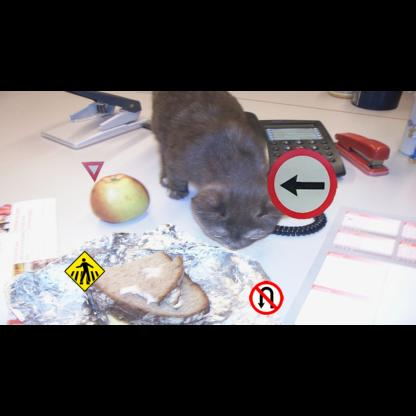A-32b: (64, 251, 105, 292)
R-24a: (267, 148, 337, 219)
R-5a: (249, 281, 283, 315)
